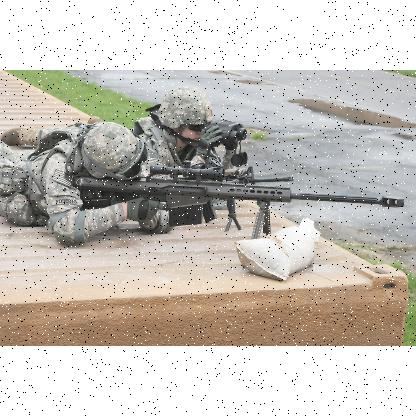gun: (46, 142, 400, 244)
